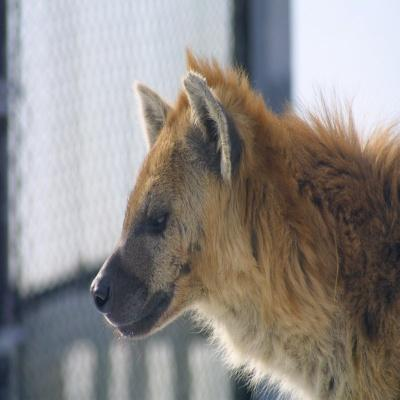hyenas: (33, 38, 400, 400)
